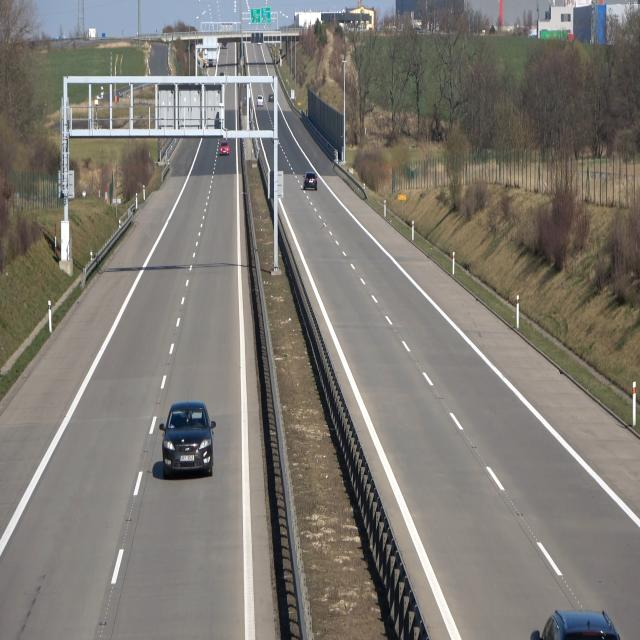Car: (159, 399, 219, 481), (303, 170, 319, 191), (220, 141, 230, 156), (256, 95, 264, 107)
